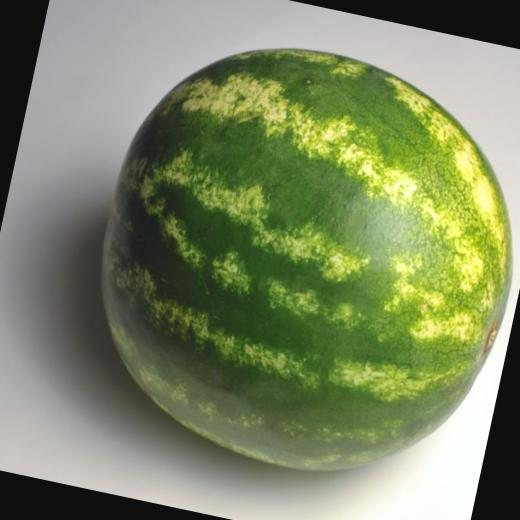Cherry: (64, 12, 520, 503)
